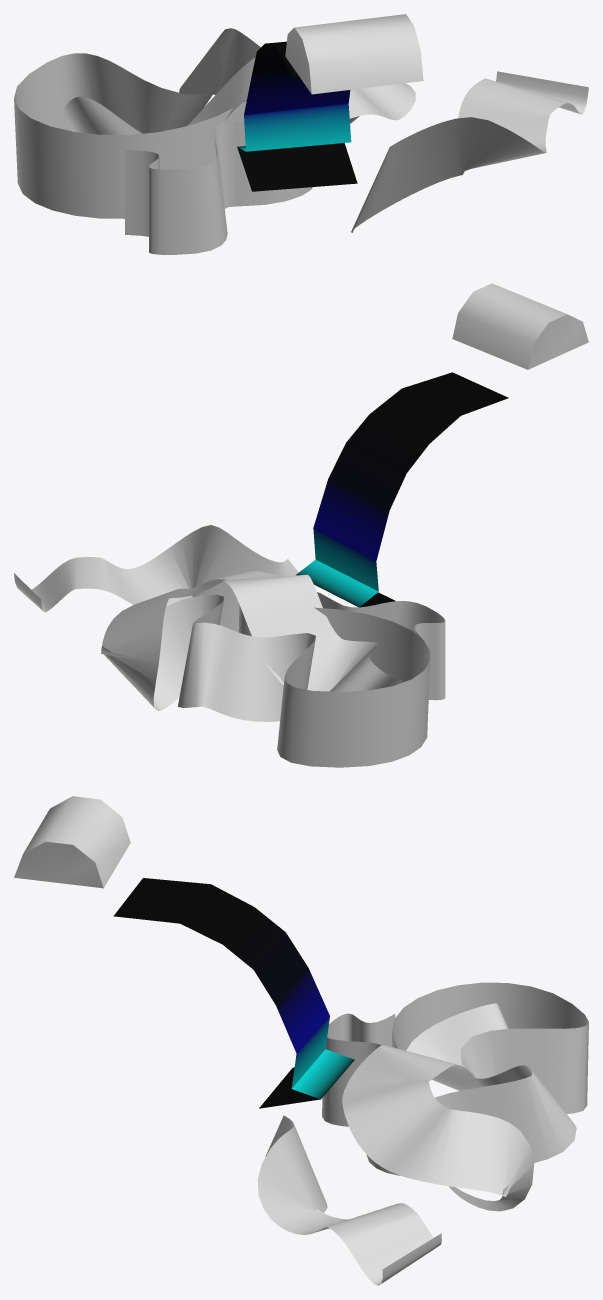
File: SeismographPaper.fbx
3 views of the same model, one above another, from view 1: azimuth 30°, elevation 25°; view 2: azimuth 150°, elevation 25°; view 3: azimuth 270°, elevation 25° (orthographic). The views are drawn at different scales.
Parts seen in each view (by area): view 1: BézierCurve, BézierCurve.001, PolyShape__1_, Cylinder__1_; view 2: BézierCurve, PolyShape__1_, BézierCurve.001, Cylinder__1_; view 3: BézierCurve, PolyShape__1_, BézierCurve.001, Cylinder__1_.
Boxes of the visible parts, bbox=[...] form: BézierCurve: bbox=[14, 28, 415, 254]; BézierCurve.001: bbox=[351, 71, 588, 232]; PolyShape__1_: bbox=[237, 41, 357, 191]; Cylinder__1_: bbox=[285, 14, 423, 94]; BézierCurve: bbox=[101, 571, 445, 767]; PolyShape__1_: bbox=[296, 372, 508, 607]; BézierCurve.001: bbox=[14, 525, 298, 632]; Cylinder__1_: bbox=[452, 283, 588, 369]; BézierCurve: bbox=[322, 982, 588, 1211]; PolyShape__1_: bbox=[113, 878, 354, 1108]; BézierCurve.001: bbox=[257, 1115, 441, 1285]; Cylinder__1_: bbox=[14, 796, 130, 888].
Size of the model in its own units: 1.74 by 1.07 by 1.79.
